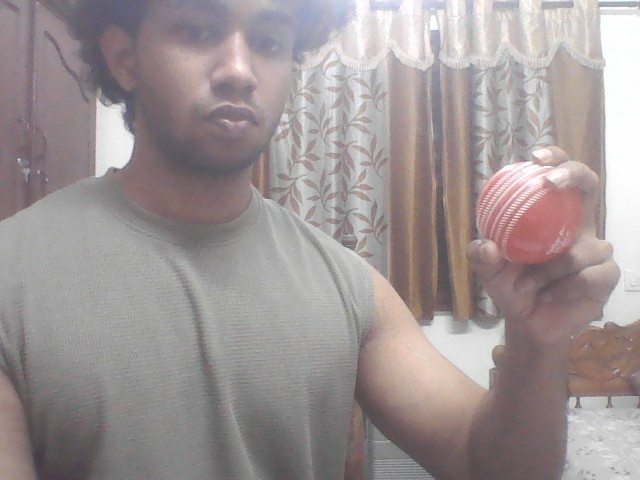cricket_ball: (471, 163, 585, 259)
